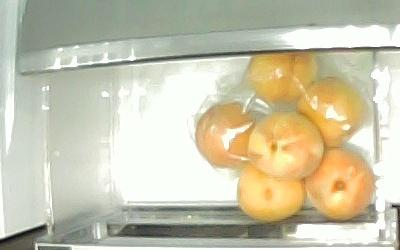peach: (303, 147, 373, 220), (247, 112, 324, 176), (237, 163, 304, 220)
peach_vinyl: (297, 78, 365, 146), (195, 102, 260, 170), (246, 50, 316, 101)
